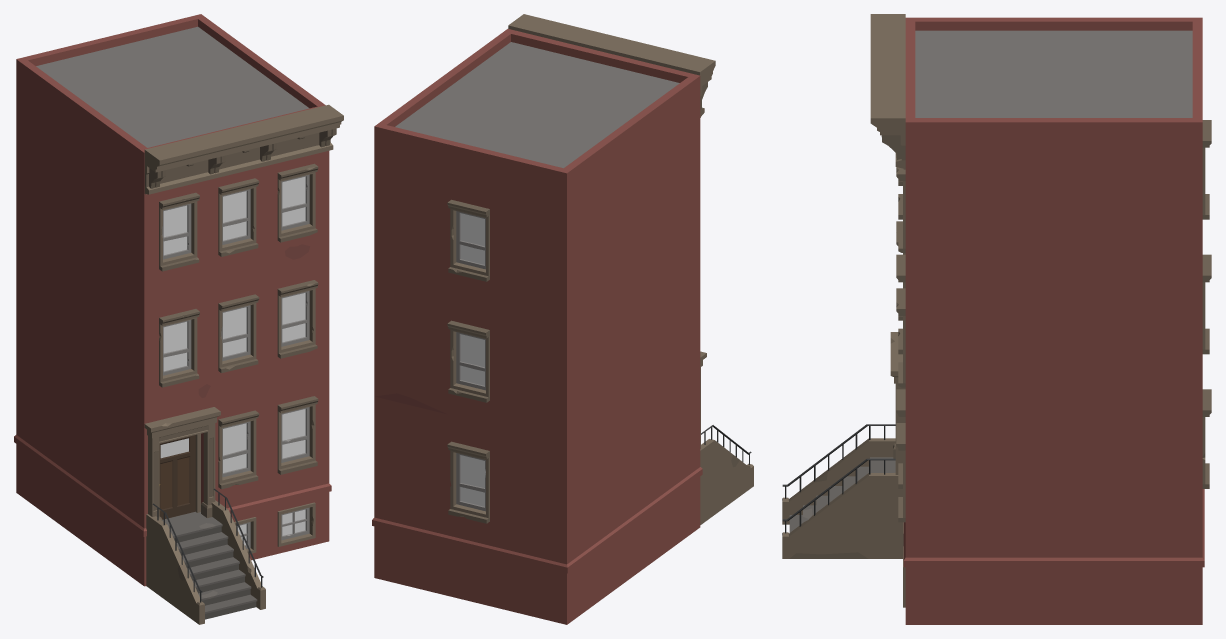
Rendered from SM_Bldg_City_Apartment_T1_3Floor_02.fbx.
3 views of the same model, side by side, from view 1: azimuth 30°, elevation 25°; view 2: azimuth 150°, elevation 25°; view 3: azimuth 270°, elevation 25° (orthographic). The views are drawn at different scales.
Parts seen in each view (by area): view 1: SM_Bldg_City_Apartment_T1_3Floor_02, SM_Bldg_City_Apartment_T1_3Floor_02_Glass, SM_Bldg_City_Apartment_T1_3Floor_02_Door; view 2: SM_Bldg_City_Apartment_T1_3Floor_02, SM_Bldg_City_Apartment_T1_3Floor_02_Glass; view 3: SM_Bldg_City_Apartment_T1_3Floor_02.
Boxes of the visible parts, box(x1,y1,x2,y2) form: SM_Bldg_City_Apartment_T1_3Floor_02: box(14, 14, 343, 624); SM_Bldg_City_Apartment_T1_3Floor_02_Glass: box(163, 176, 305, 545); SM_Bldg_City_Apartment_T1_3Floor_02_Door: box(159, 435, 195, 519); SM_Bldg_City_Apartment_T1_3Floor_02: box(372, 14, 753, 624); SM_Bldg_City_Apartment_T1_3Floor_02_Glass: box(460, 213, 485, 506); SM_Bldg_City_Apartment_T1_3Floor_02: box(782, 14, 1211, 624).
Bounding box in the file's own units: 507 × 1128 × 867.
